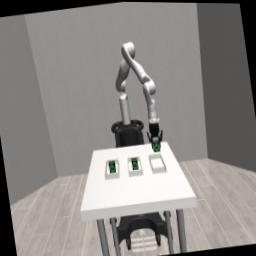cube1: (152, 137, 160, 152)
cube2: (130, 156, 138, 169)
cube3: (108, 158, 116, 172)
